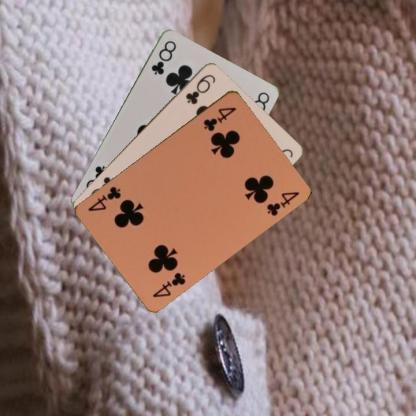4c: (150, 269, 187, 299), (201, 104, 238, 132)
6c: (182, 71, 216, 106)
8c: (148, 38, 178, 76)
